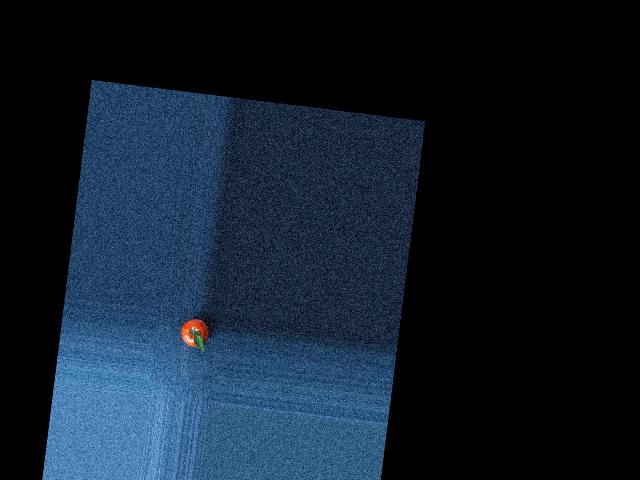tomato: (179, 317, 210, 348)
